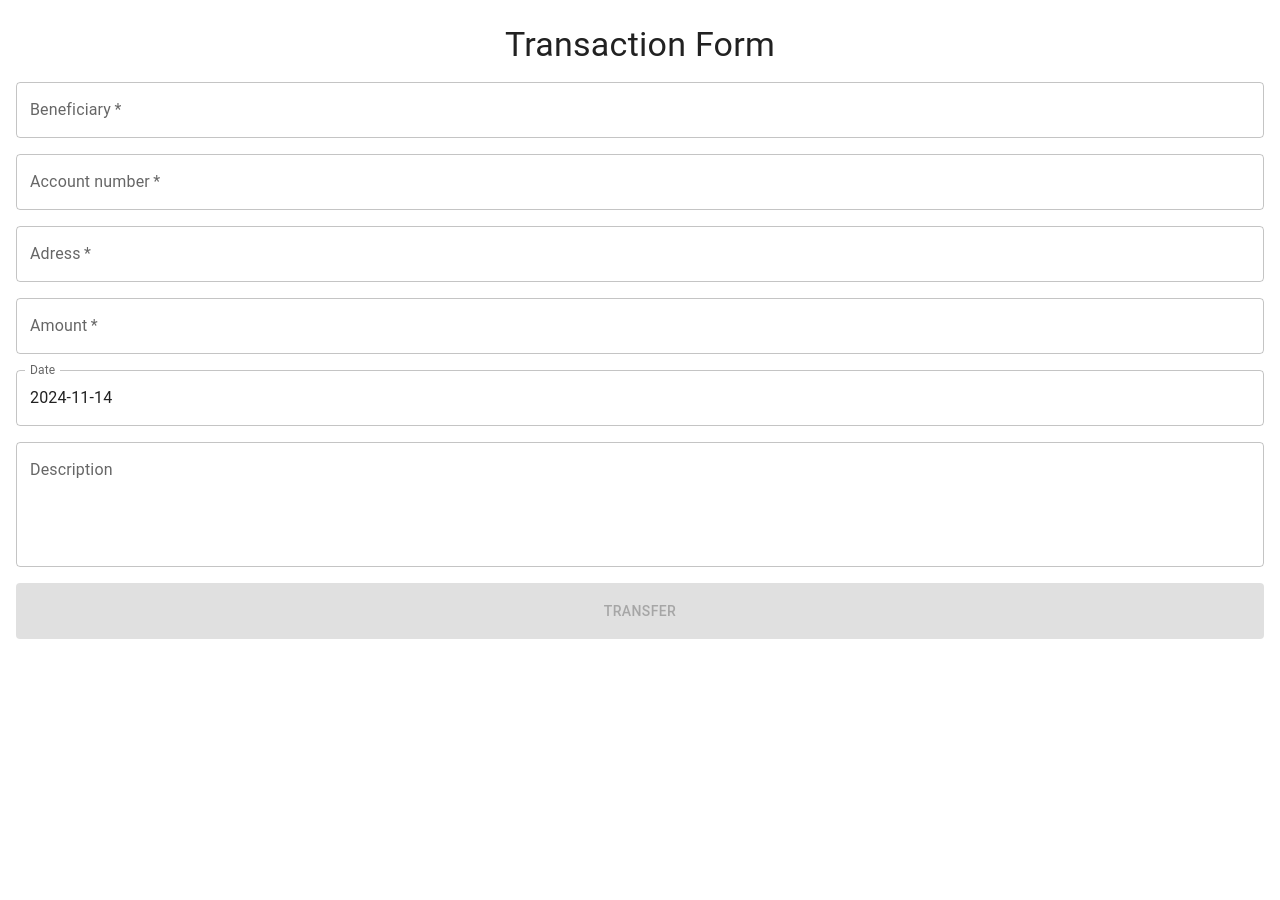
Test: TransactionForm › should have the submit button disabled initially
expect the button "Transfer" is disabled: met, box [16,583,1264,640]
In the field labelled "Beneficiary *": (640, 110) [16,82,1264,138], type "Test User"
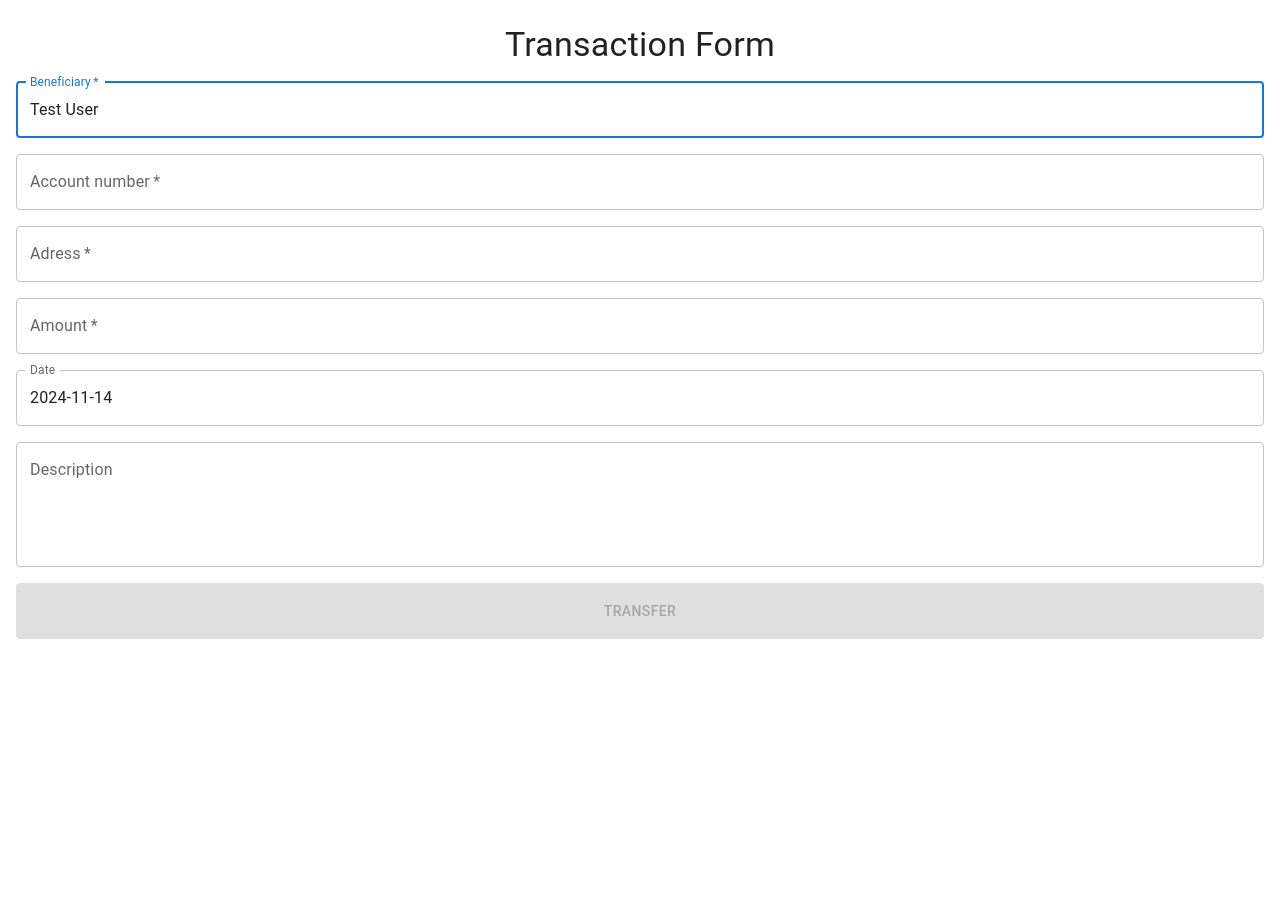
In the field labelled "Account number *": (640, 182) [16,154,1264,210], type "PL12345678901234567890123456"
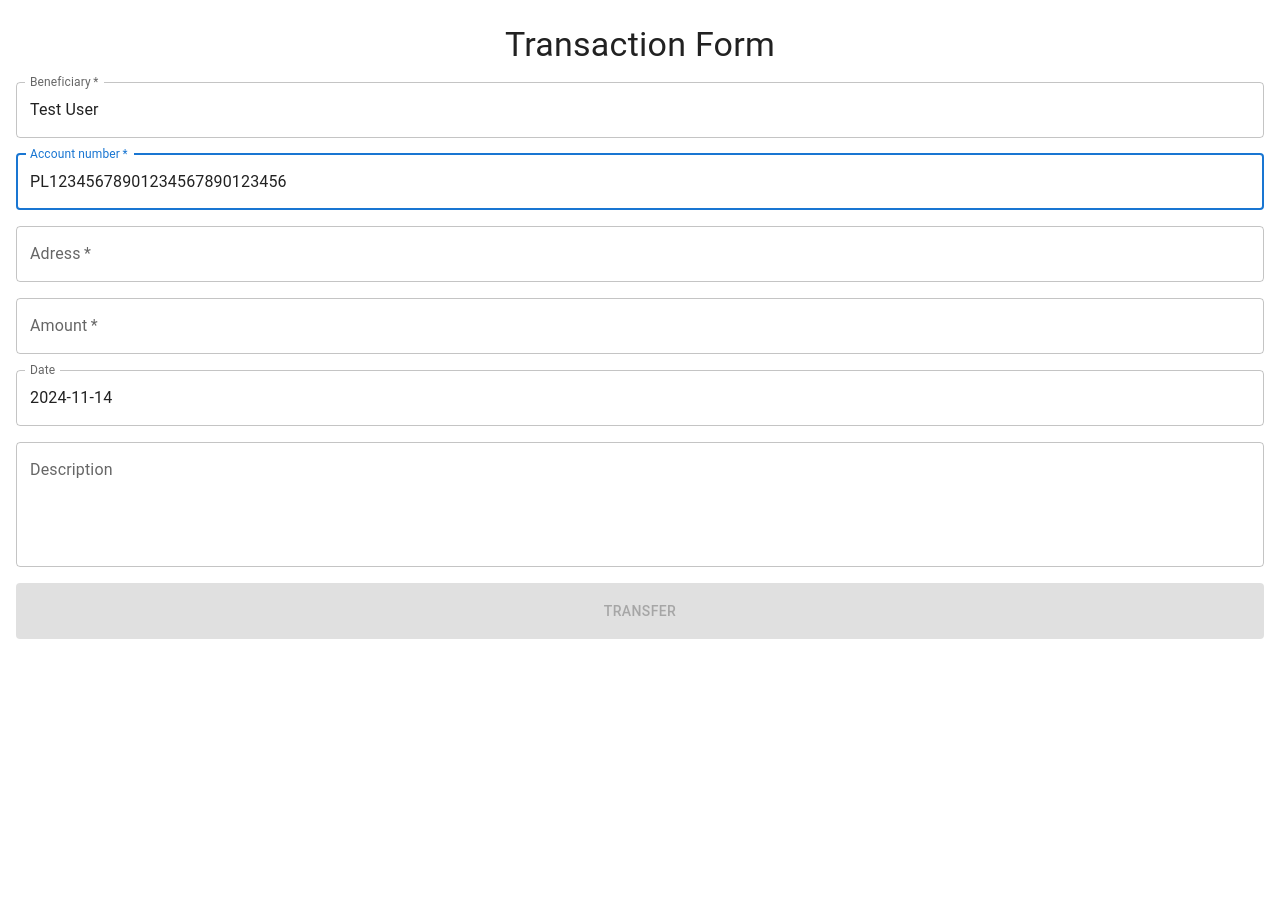
In the field labelled "Adress *": (640, 254) [16,226,1264,282], type "123 Main St"
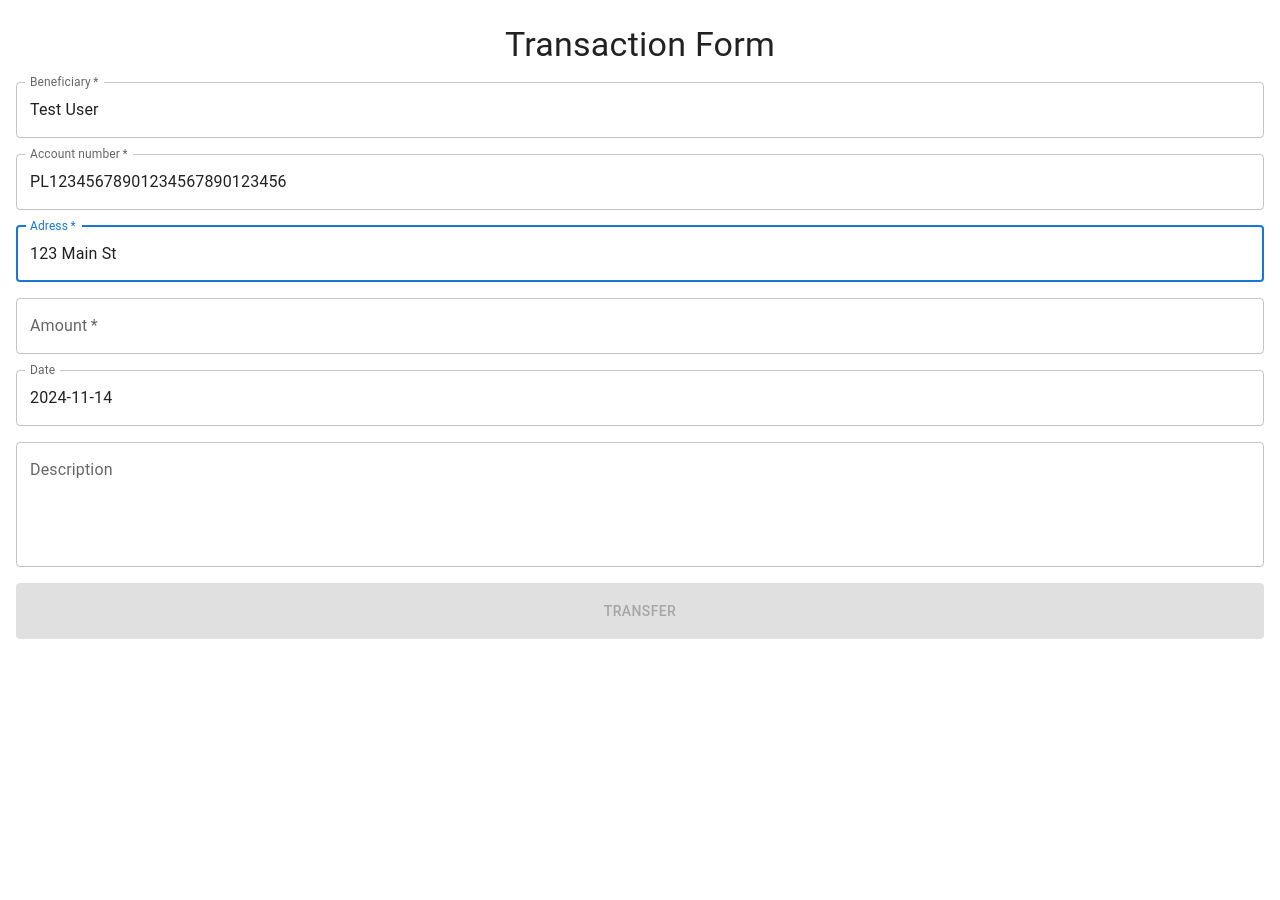
In the number field labelled "Amount *": (640, 326) [16,298,1264,354], type "100"
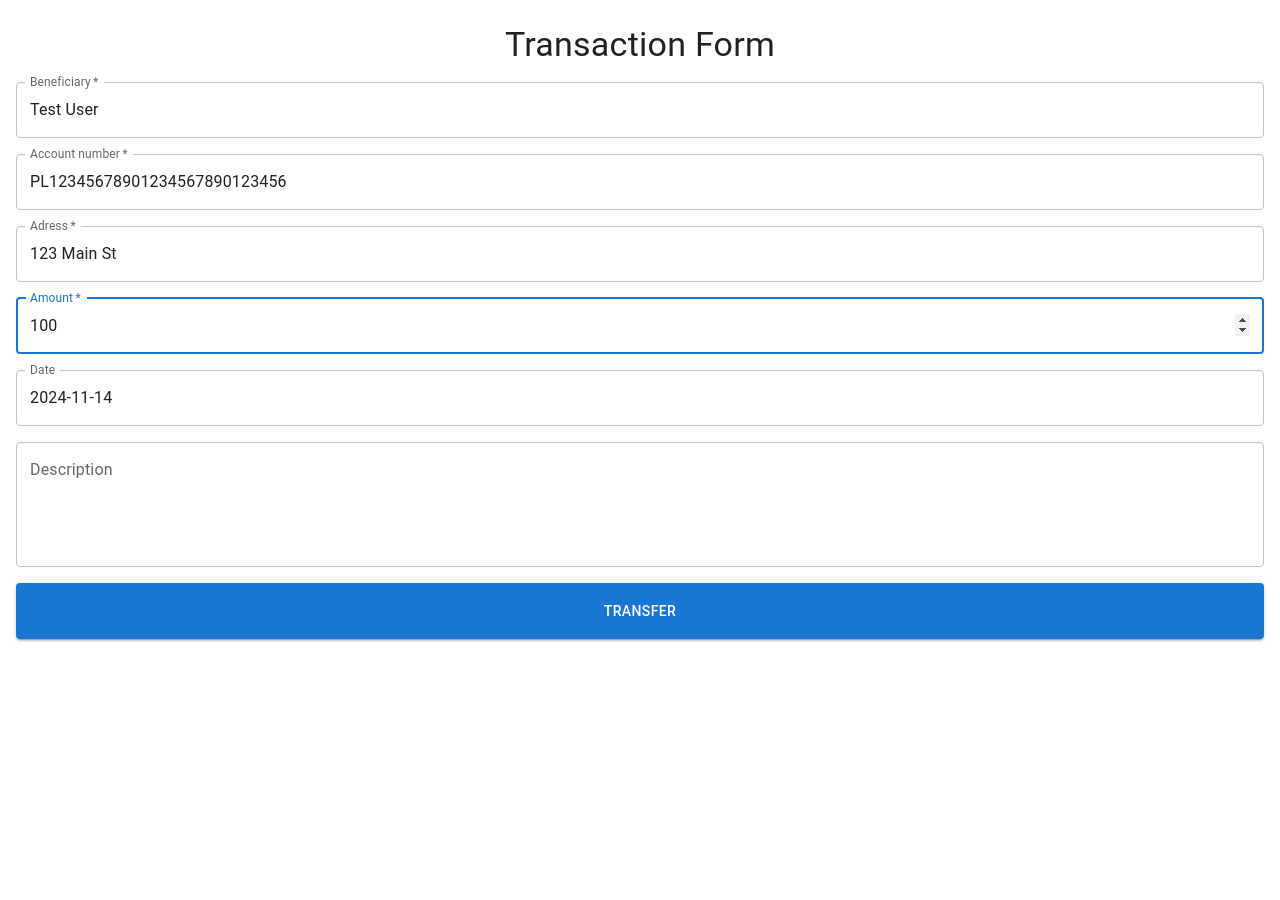
expect the button "Transfer" is enabled: met, box [16,583,1264,640]
